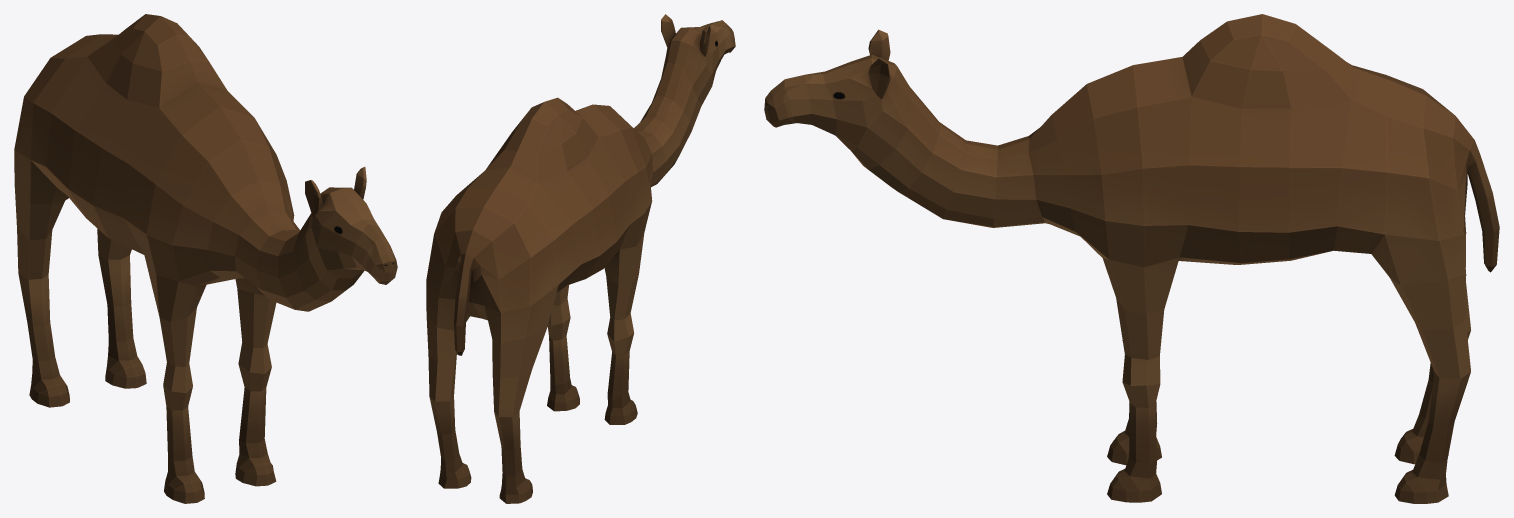
Rendered from Dromedary.glb.
The picture shows the model from 3 angles, left to right: view 1: azimuth 30°, elevation 25°; view 2: azimuth 150°, elevation 25°; view 3: azimuth 270°, elevation 25°; orthographic projection. The views are drawn at different scales.
Parts seen in each view (by area): view 1: node-0; view 2: node-0; view 3: node-0.
Boxes of the visible parts, left/top/right/bottom form: node-0: left=14, top=14, right=397, bottom=503; node-0: left=426, top=14, right=735, bottom=503; node-0: left=764, top=14, right=1499, bottom=503.
Size of the model in its own units: 0.2741 by 0.6931 by 1.
1 material, 1 textured.
